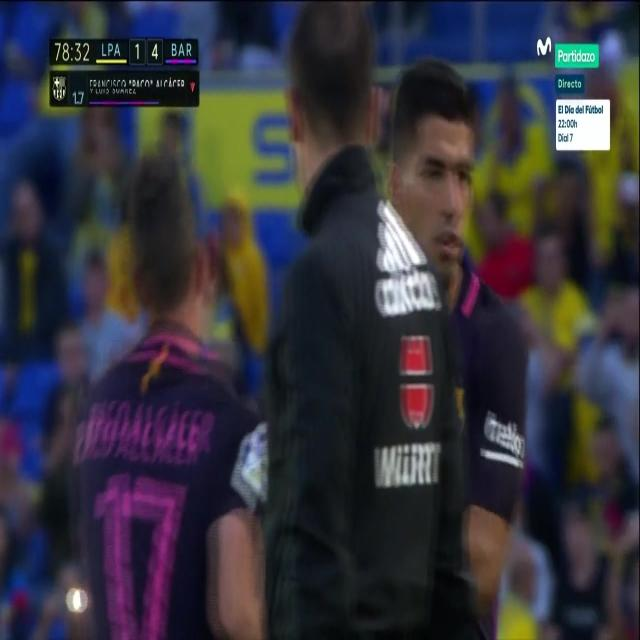Player: (68, 141, 262, 640), (388, 57, 530, 640)
